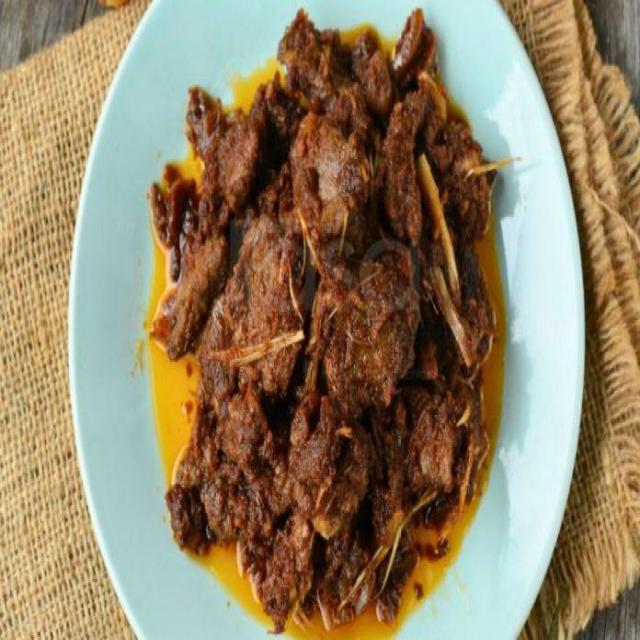Rendang: (124, 14, 533, 635)
